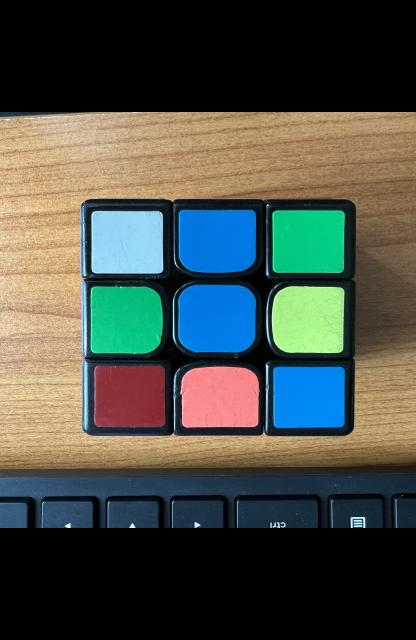Blue: (177, 284, 256, 352), (178, 210, 256, 272), (272, 367, 344, 428)
Green: (89, 286, 162, 354), (272, 211, 344, 273)
Orange: (179, 367, 258, 427)
Red: (93, 366, 164, 427)
White: (90, 211, 162, 273)
Yellow: (270, 286, 344, 354)
